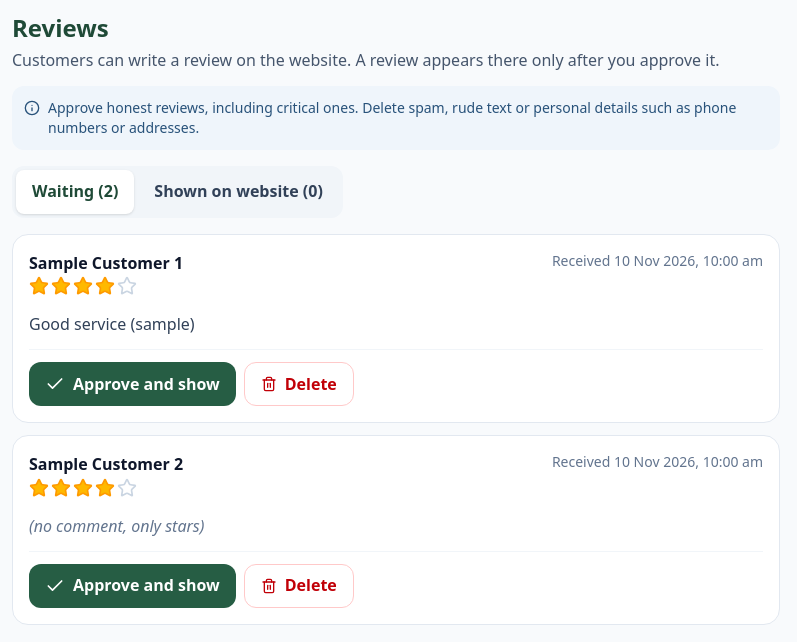
Test case: Reviews admin page › shows reviews waiting for approval and approves one
Expected: the text "Sample Customer 1" is shown, left=29, top=251, right=183, bottom=276
Expected: the number of pictures named "4 out of 5 stars" is 2, left=29, top=276, right=137, bottom=296; left=29, top=478, right=137, bottom=498
Step 1. Click the button named "Approve and show – Sample Customer 1" → x=132, y=384, box left=29, top=362, right=236, bottom=406
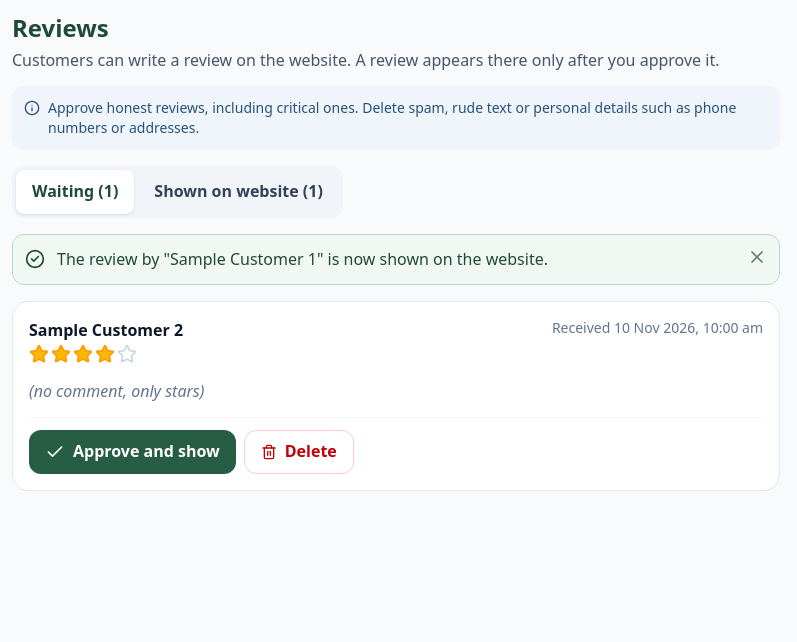
Expected: the text "The review by \"Sample Customer 1\" is now shown on the website." is shown, left=57, top=248, right=548, bottom=270
Expected: the button "Shown on website (1)" is shown, left=138, top=170, right=339, bottom=214
